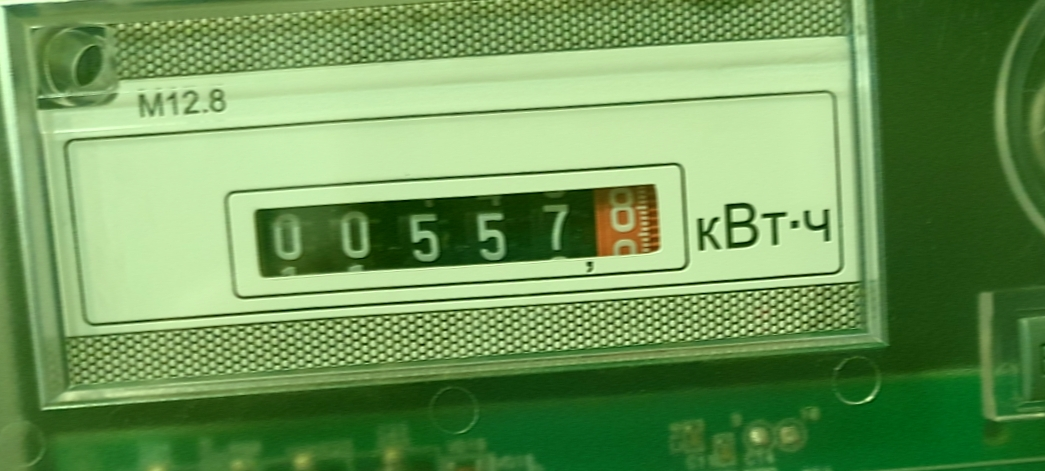0: (267, 205, 306, 264), (335, 205, 373, 260)
5: (470, 202, 512, 264), (404, 206, 443, 265)
7: (535, 196, 572, 254)
8: (605, 183, 637, 235)
screen: (218, 142, 696, 314)
